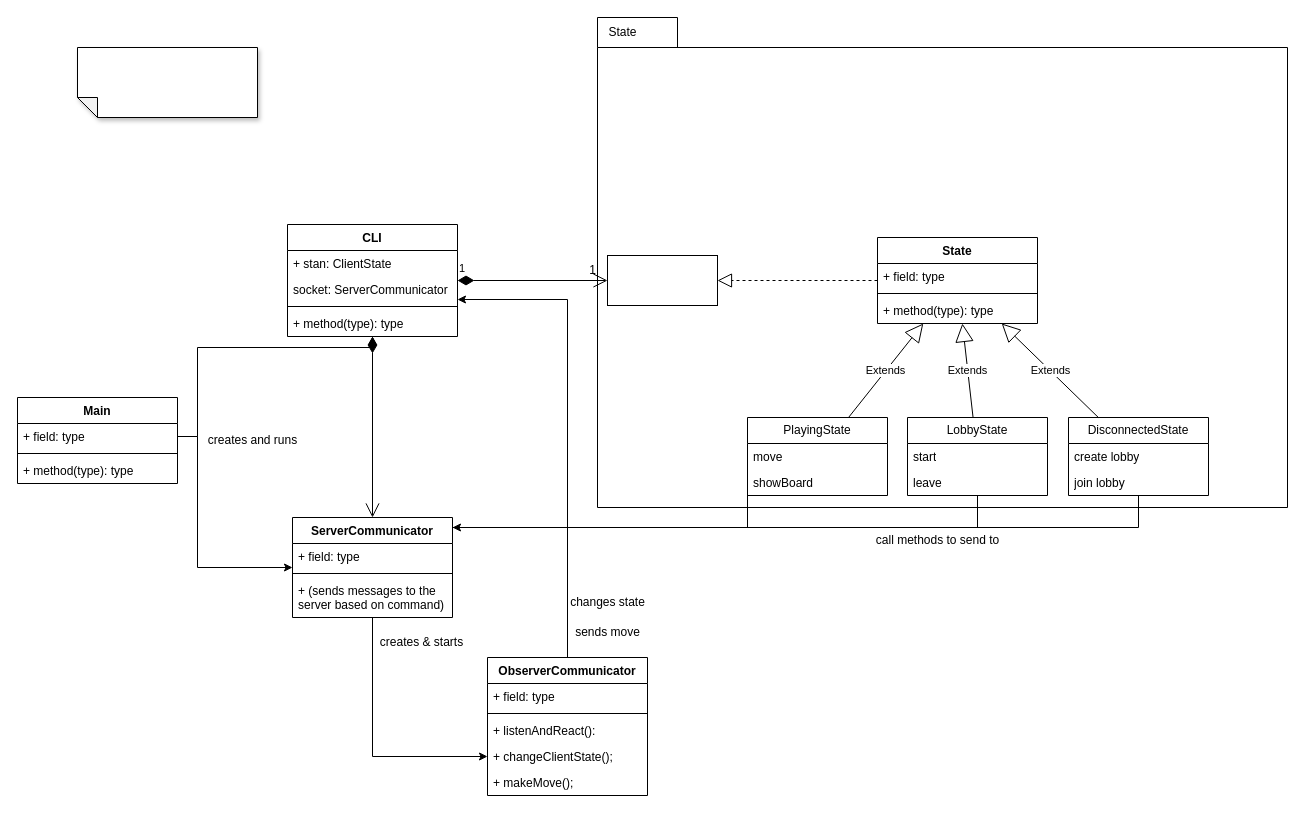
Some shapes in this 1305 by 816 pixel diagram are drawn without their labels. The centre of each missing label's shape, as x and y in pixels:
"diagram jest uproszczony" belongs at [168,83].
"«interface» ClientState" belongs at [662,280].
